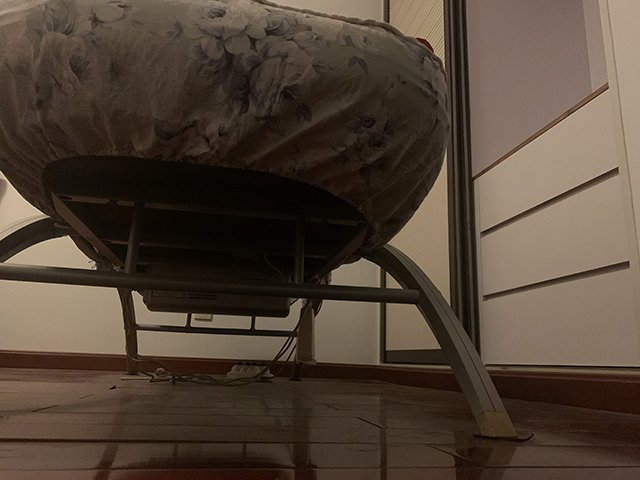cabinet: (454, 86, 640, 373)
stool: (1, 1, 534, 445)
wire: (117, 301, 314, 389)
